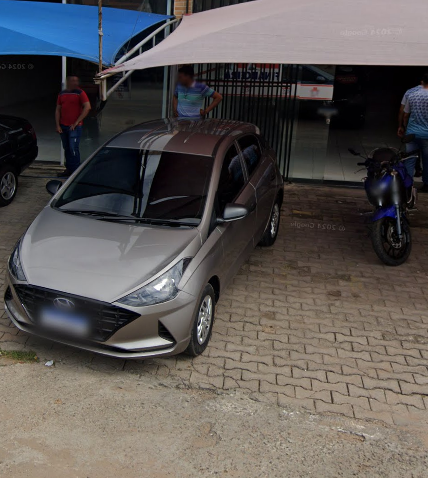car: (3, 99, 287, 365)
